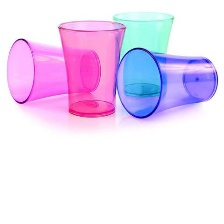glass: (111, 40, 224, 131), (2, 31, 102, 110), (54, 16, 126, 123), (109, 8, 180, 101)
